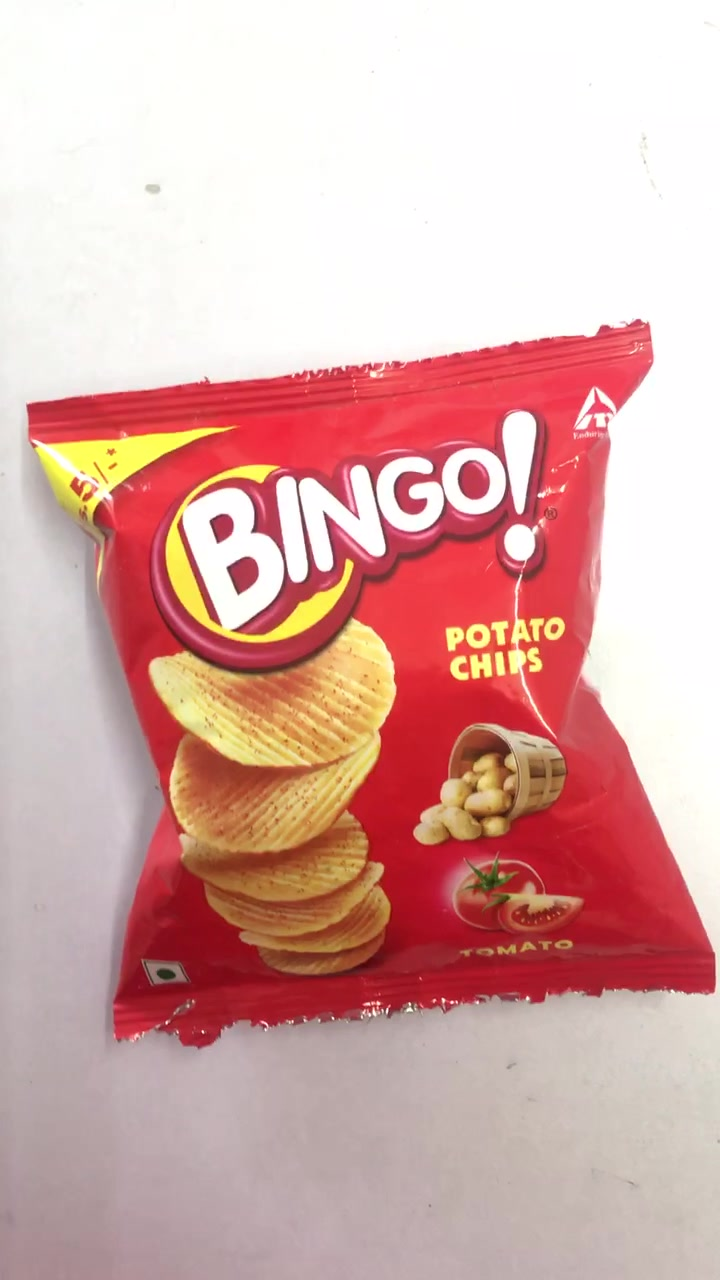Bingo: (62, 355, 708, 1009)
